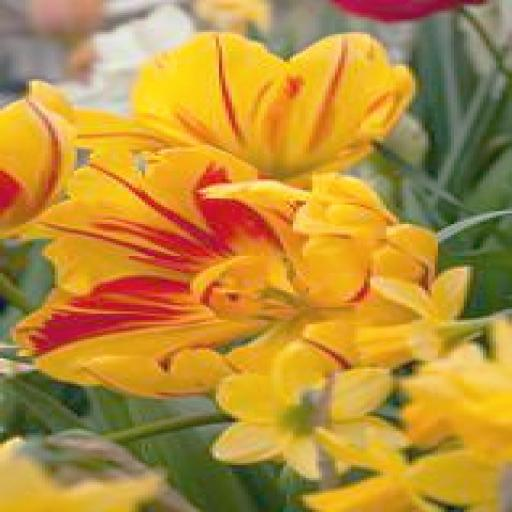tulip: (20, 143, 432, 405)
